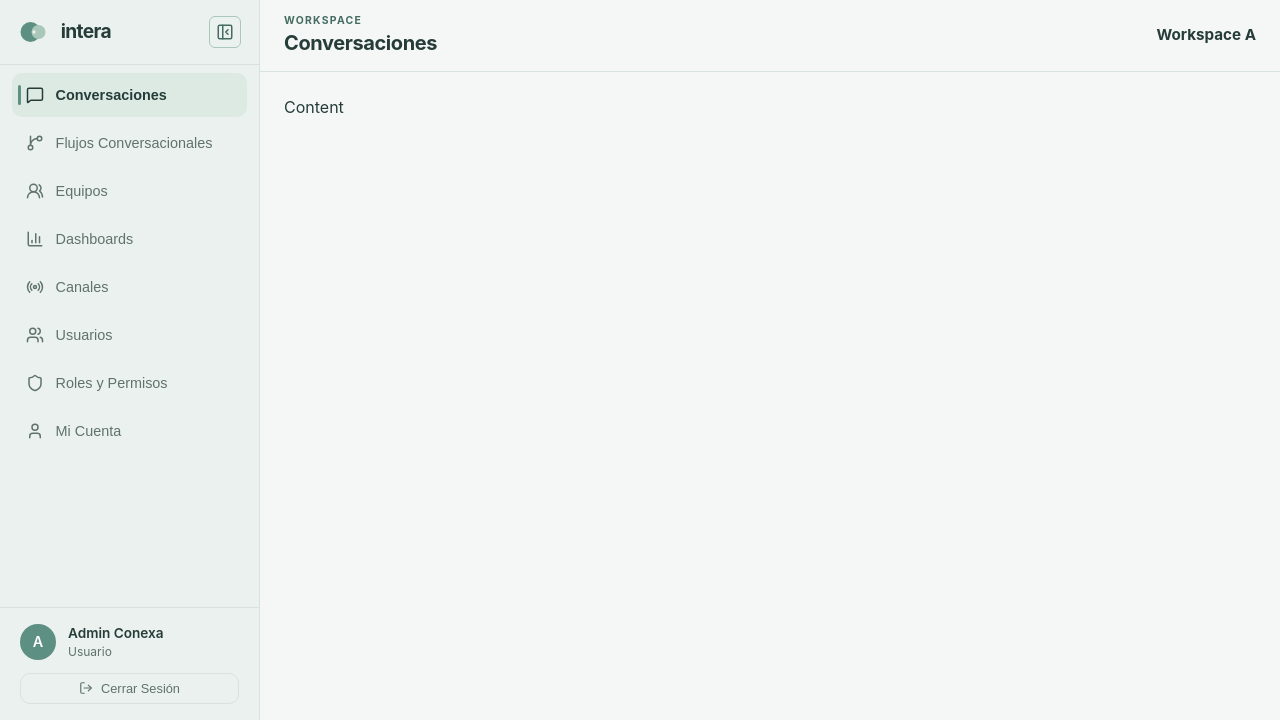
Test: Layout Component › Desktop Mode (> 768px) › renders expanded sidebar by default and toggles collapsed mode
Later steps or results of the test are not shown.
Check: the text "Conversaciones" below "intera" is shown, box [56,87,167,103]
Step 1. Click the button with test id "sidebar-toggle-btn" → (225, 32), box [209,16,241,48]
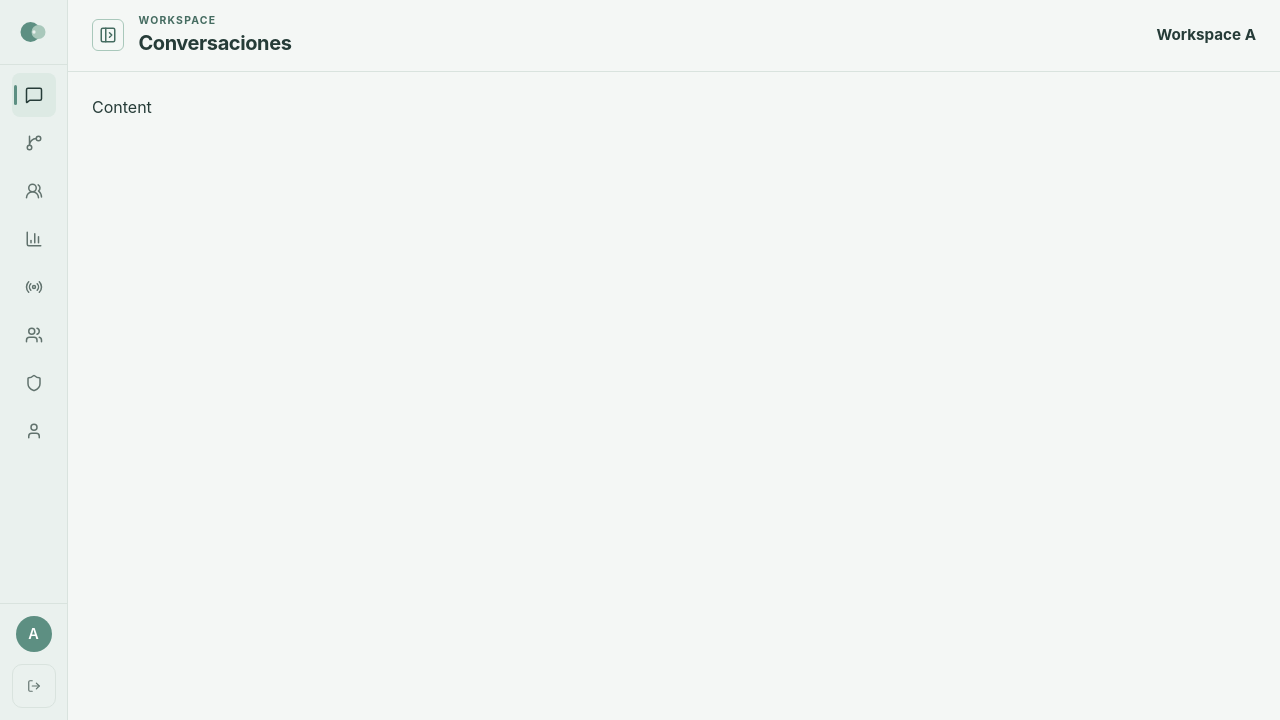
Check: the element with test id "sidebar" has class "collapsed", box [0,0,68,719]
